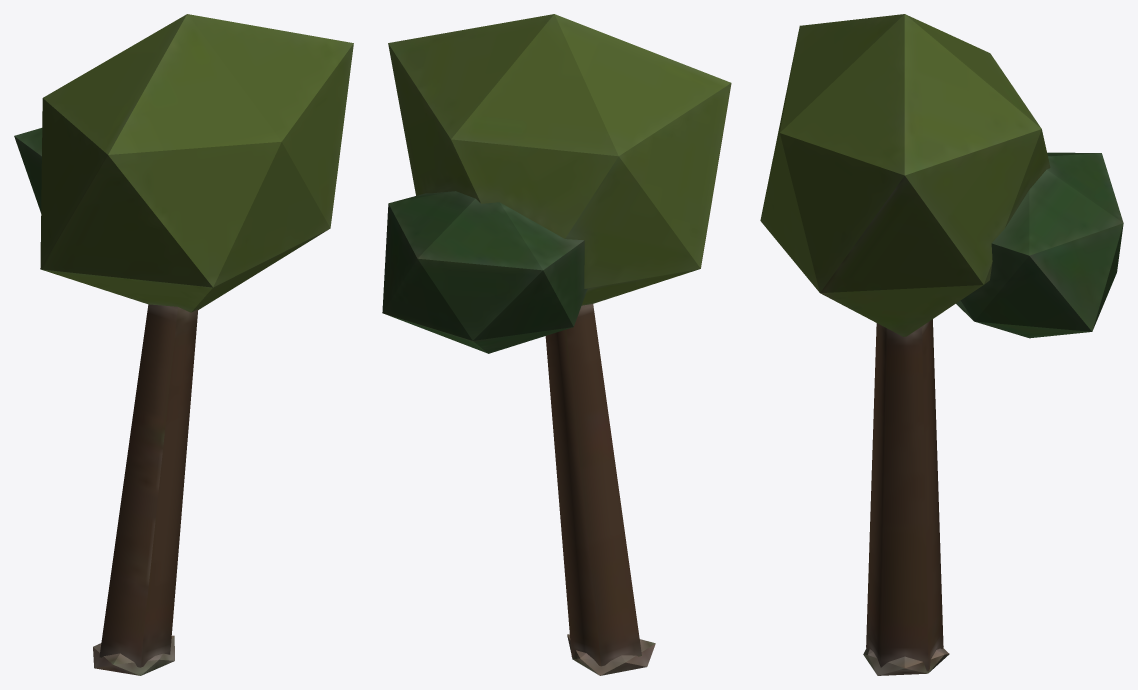
The model's file is tree_3.glb.
3 renders of one model, left to right at view 1: azimuth 30°, elevation 25°; view 2: azimuth 150°, elevation 25°; view 3: azimuth 270°, elevation 25°, orthographic. The views are drawn at different scales.
Visible parts, largest first — view 1: te_prop_tree_3; view 2: te_prop_tree_3; view 3: te_prop_tree_3.
Part boxes in pixels (x1,y1,x2,y2): te_prop_tree_3: [14, 14, 353, 675]; te_prop_tree_3: [382, 14, 731, 675]; te_prop_tree_3: [760, 14, 1123, 675].
Size of the model in its own units: 0.2279 by 0.4389 by 0.2141.
1 material, 1 textured.
